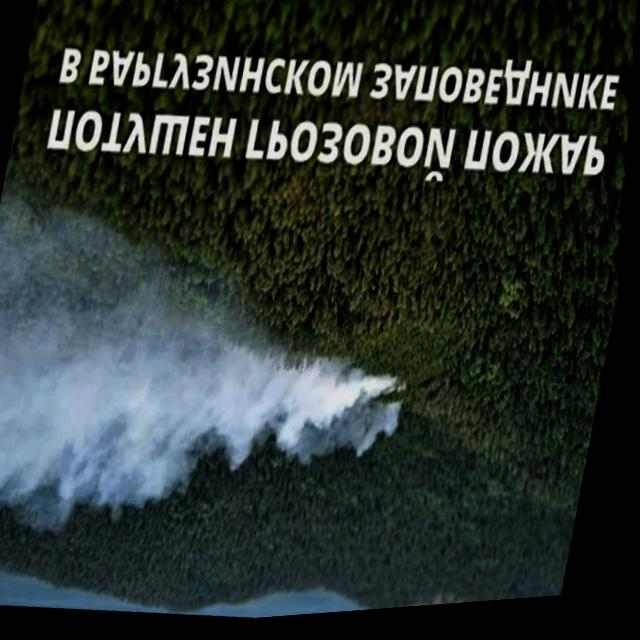no_helmet: (0, 306, 425, 544)
